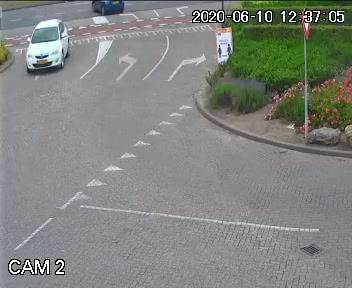car: (24, 15, 72, 77), (88, 0, 125, 17)
